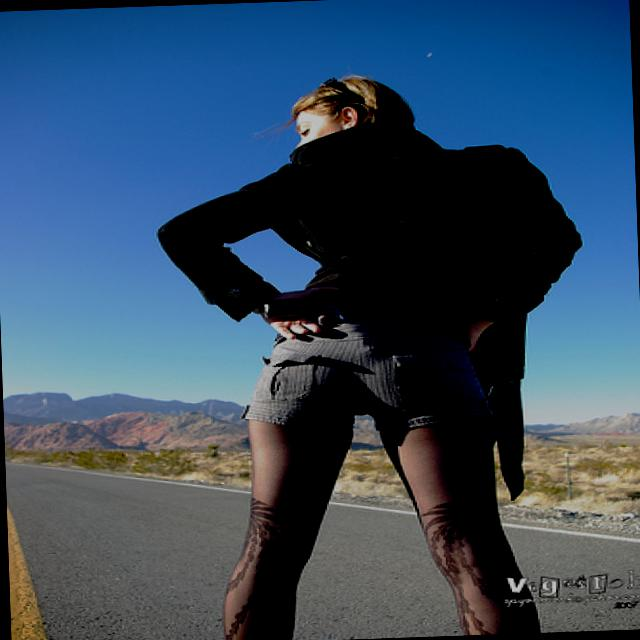handgun: (258, 286, 350, 328)
